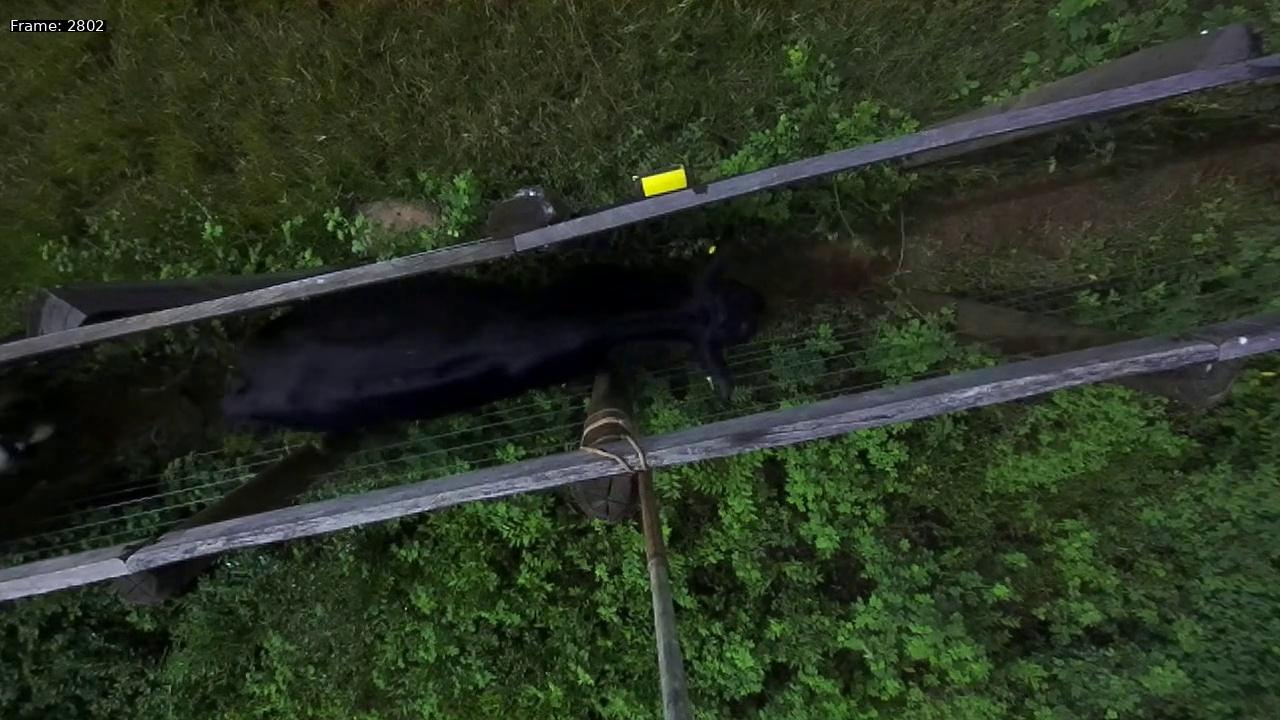cattle: (210, 202, 815, 446)
